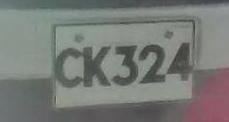2: (137, 42, 170, 89)
3: (110, 44, 143, 90)
4: (166, 37, 197, 86)
C: (52, 44, 87, 91)
K: (81, 40, 113, 92)
